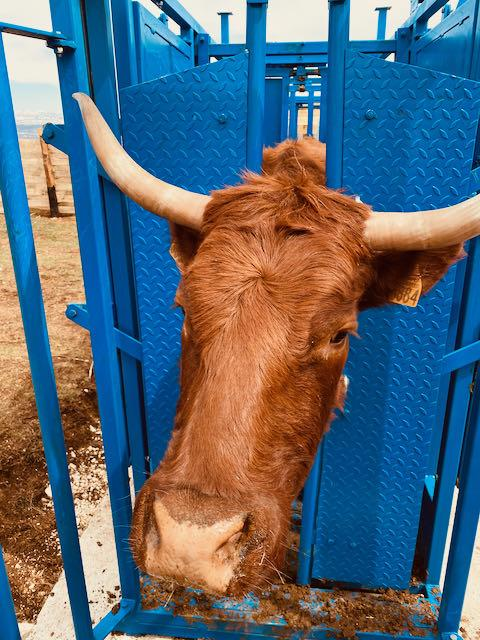muzzles: (120, 485, 278, 604)
